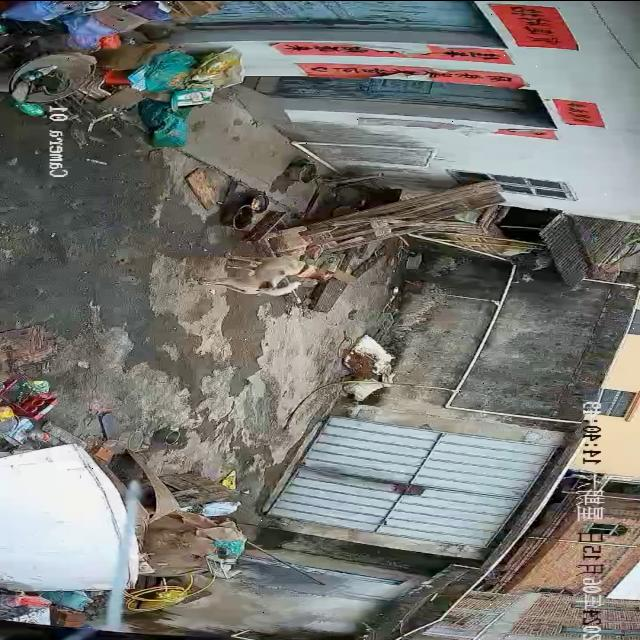dog: (183, 254, 337, 296)
